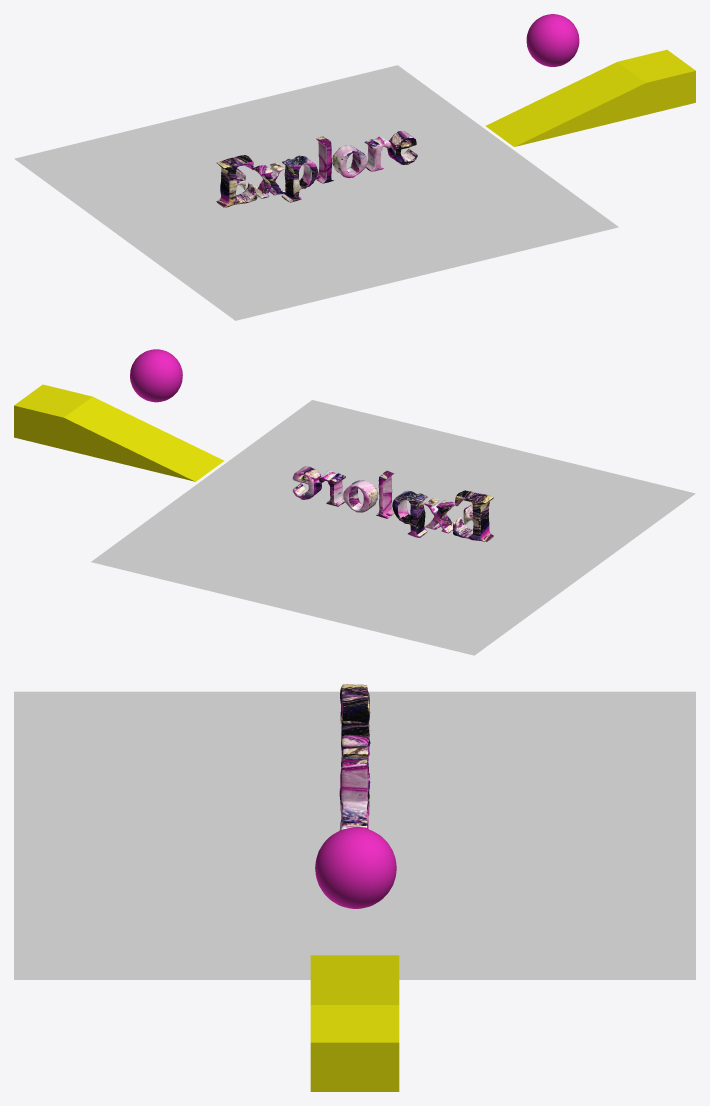
The model's file is explore.glb.
3 views of the same model, one above another, from view 1: azimuth 30°, elevation 25°; view 2: azimuth 150°, elevation 25°; view 3: azimuth 270°, elevation 25° (orthographic). The views are drawn at different scales.
Visible parts, largest first — view 1: Plane, Cube, Text, Sphere; view 2: Plane, Cube, Text, Sphere; view 3: Plane, Cube, Sphere, Text.
Boxes of the visible parts, x1,y1,x2,y2 form: Plane: (14,65,618,320); Cube: (485,49,695,146); Text: (216,131,417,207); Sphere: (526,14,579,66); Plane: (91,400,695,655); Cube: (14,384,224,481); Text: (292,466,493,541); Sphere: (130,349,182,402); Plane: (14,691,695,979); Cube: (310,955,399,1091); Sphere: (315,827,396,908); Text: (339,684,370,830).
Size of the model in its own units: 22.3 by 4.57 by 15.37.
Materials: 4 (1 with a texture image).
